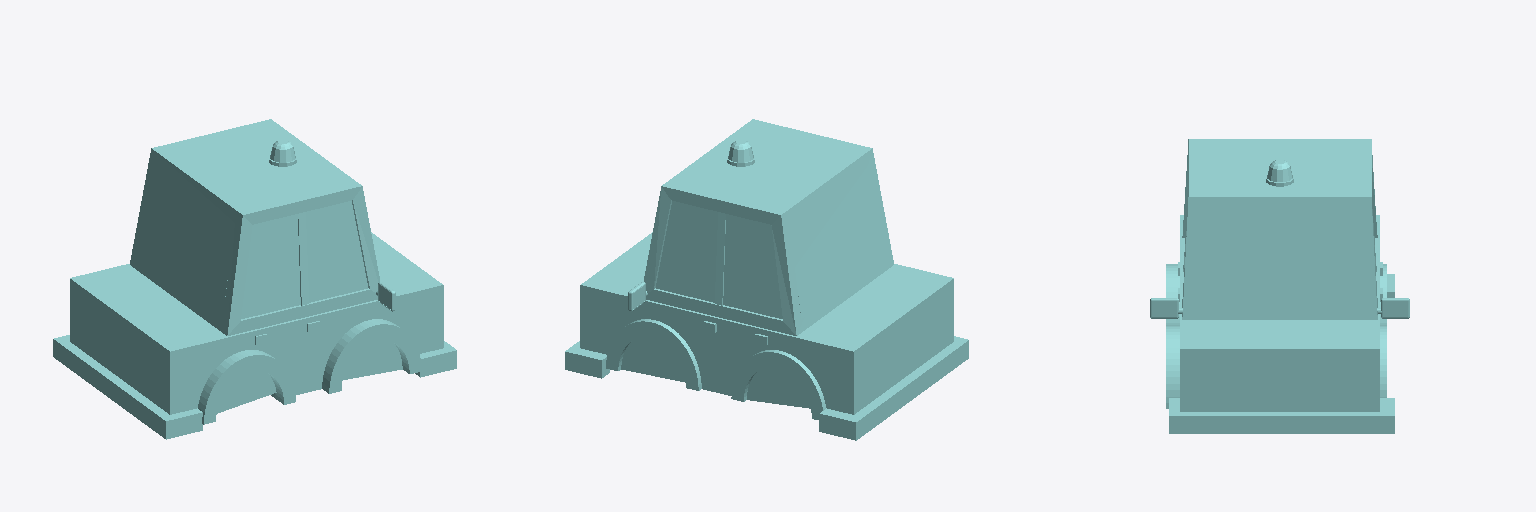
Rendered from Carro_SN_Llantas.obj.
3 views of the same model, side by side, from view 1: azimuth 30°, elevation 25°; view 2: azimuth 150°, elevation 25°; view 3: azimuth 270°, elevation 25° (orthographic).
Parts seen in each view (by area): view 1: police; view 2: police; view 3: police.
Part boxes in pixels (x1,y1,x2,y2): police: (53, 119, 456, 439); police: (565, 119, 968, 440); police: (1150, 139, 1409, 433).
Bounding box in the file's own units: 117 × 82.57 × 90.43.